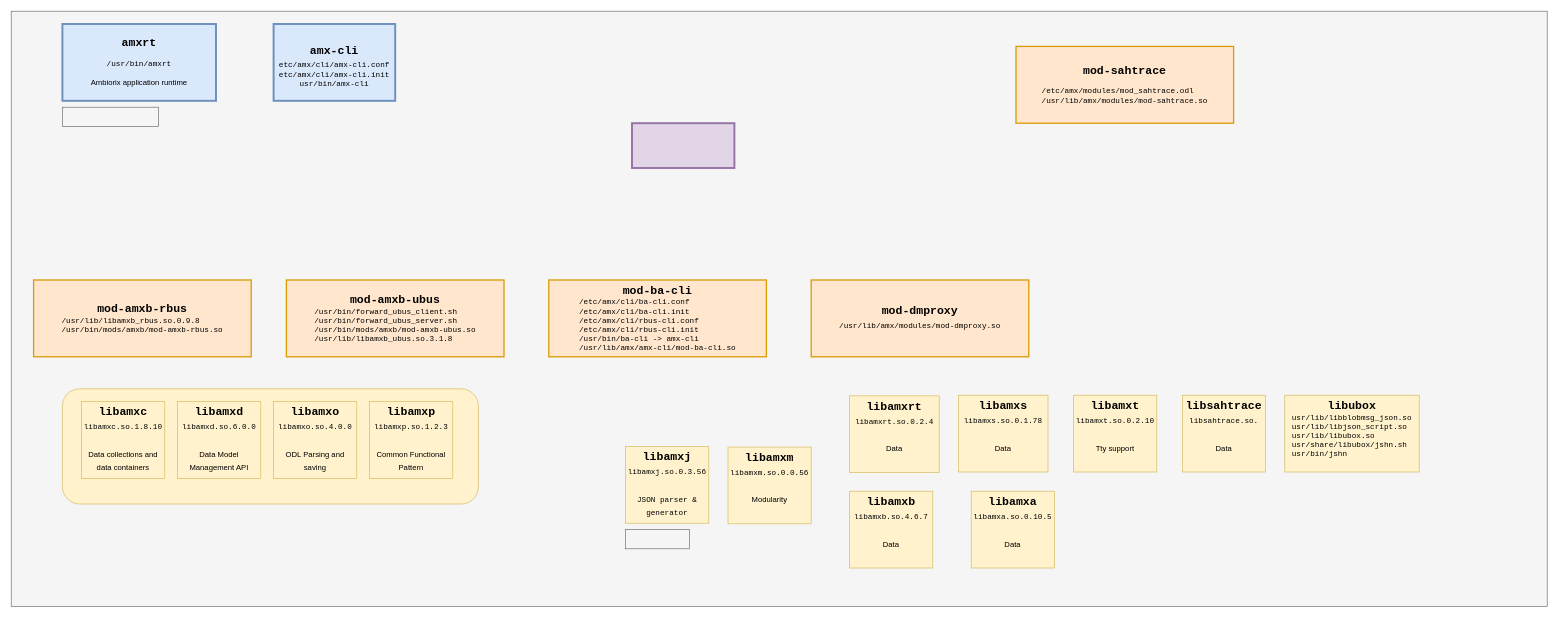
Some shapes in this 1558 by 618 pixel diagram are drawn without their labels. Each missing label, with the box of its shape:
libevent: (62, 107, 158, 126)
libjayl: (625, 529, 690, 549)
ubus /usr/bin/ubus /usr/bin/ubusd: (631, 122, 735, 169)
